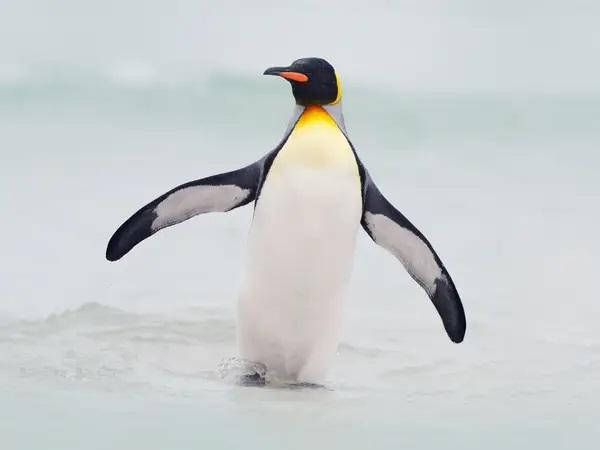emporer: (166, 45, 427, 411)
